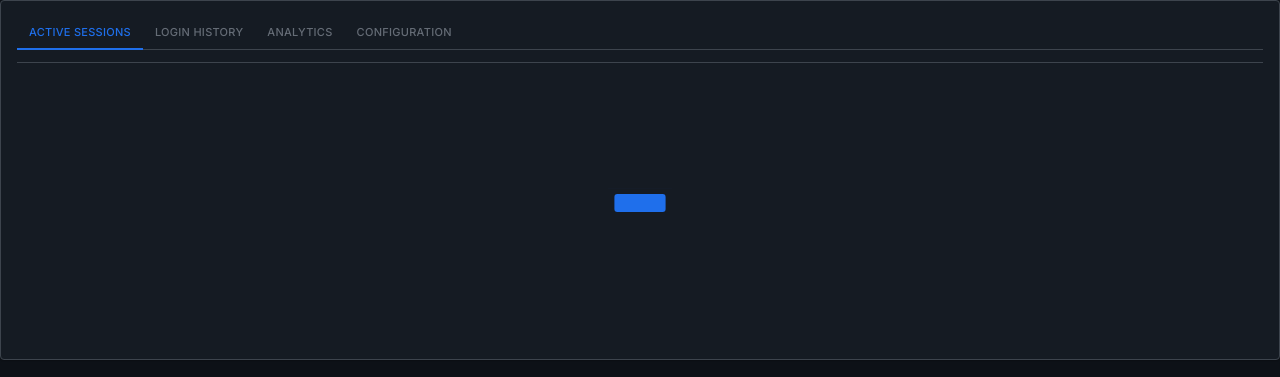
Test: SessionManagementPage › switches to Login History tab
Click the tab "Login History" at (199, 34), box x1=143 y1=17 x2=255 y2=50
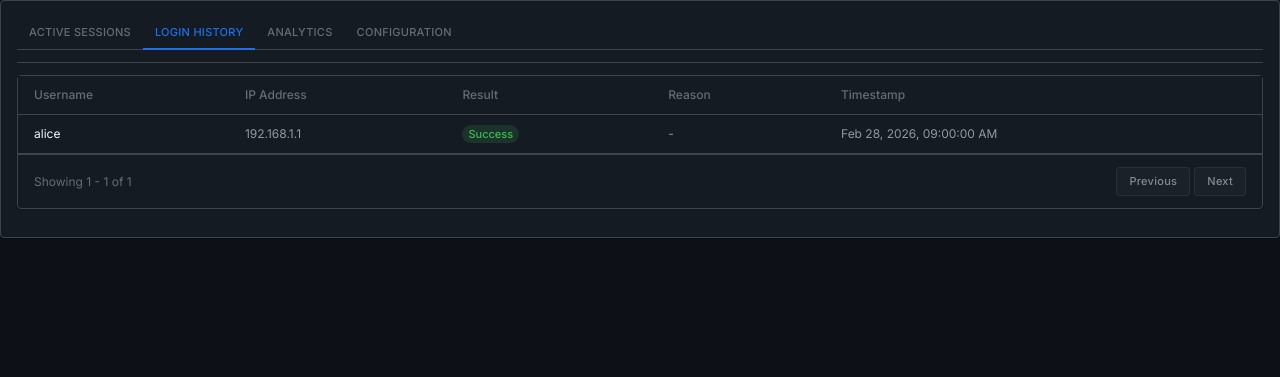
Result: the column heading "Username" is shown at x1=18 y1=76 x2=229 y2=114
